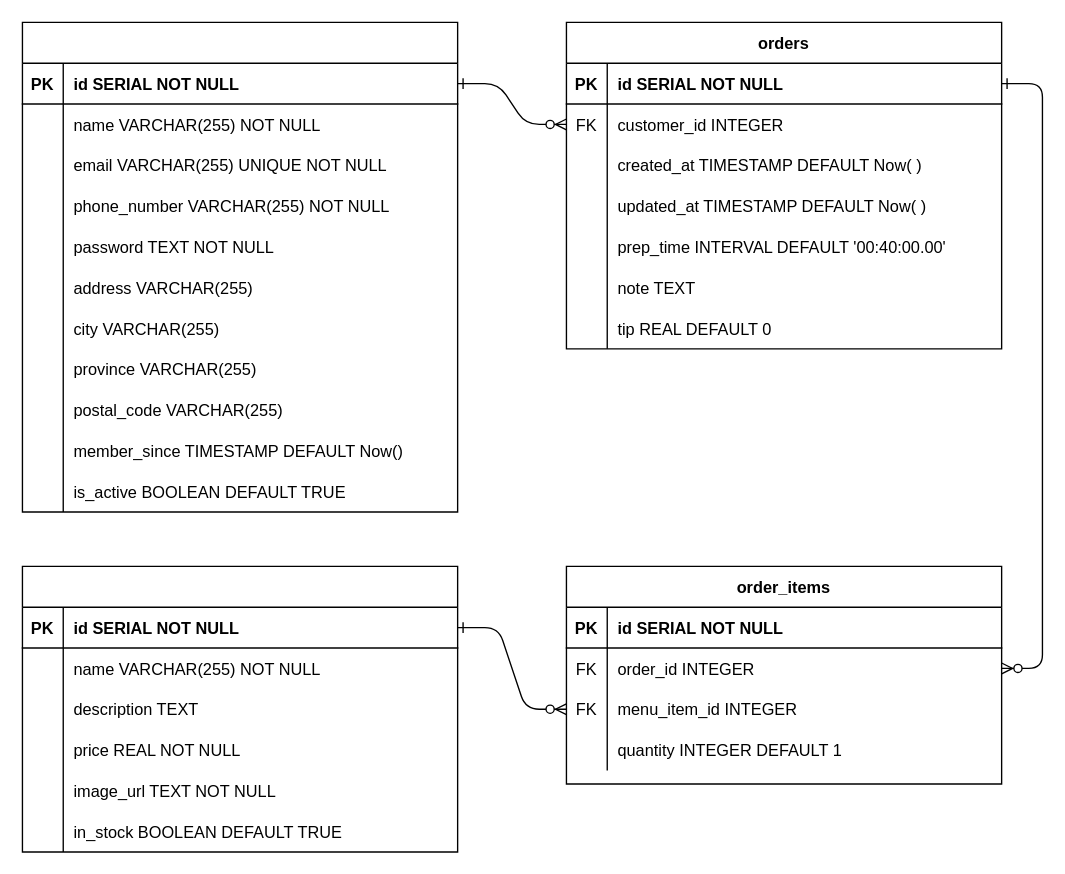
Image size: 1065x874. Some labels were removed from this diagram. The box of each missing label's shape, as (x1, y1, x2, y2) in pixels:
customers: (21, 21, 458, 512)
menu_items: (21, 565, 458, 852)
